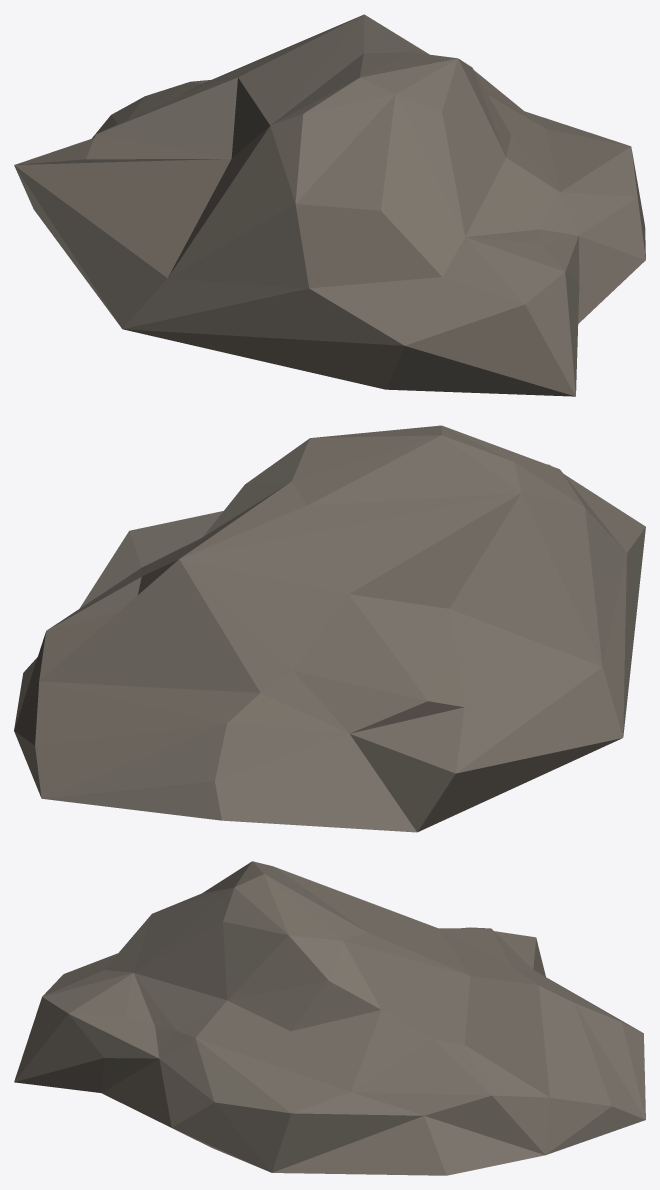
File: SM_Env_WaterEdge_Rock_01.fbx
The picture shows the model from 3 angles, top to bottom: view 1: azimuth 30°, elevation 25°; view 2: azimuth 150°, elevation 25°; view 3: azimuth 270°, elevation 25°; orthographic projection. The views are drawn at different scales.
Visible parts, largest first — view 1: SM_Env_WaterEdge_Rock_01; view 2: SM_Env_WaterEdge_Rock_01; view 3: SM_Env_WaterEdge_Rock_01.
Boxes of the visible parts, x1,y1,x2,y2 form: SM_Env_WaterEdge_Rock_01: [14, 14, 645, 396]; SM_Env_WaterEdge_Rock_01: [14, 425, 645, 832]; SM_Env_WaterEdge_Rock_01: [14, 861, 645, 1175].
Bounding box in the file's own units: 454 × 192 × 601.
